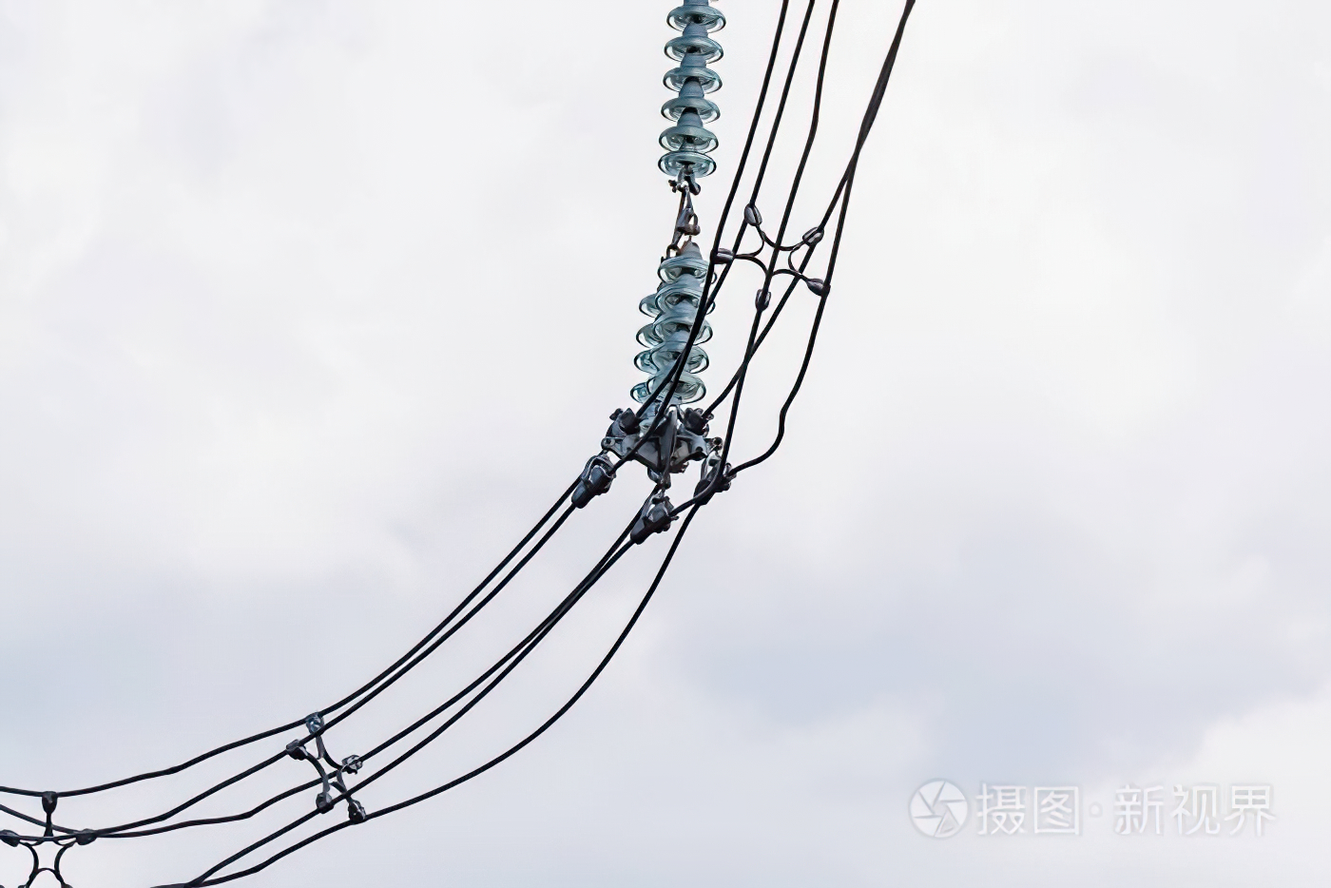insulator: (625, 257, 721, 404), (653, 1, 729, 176)
